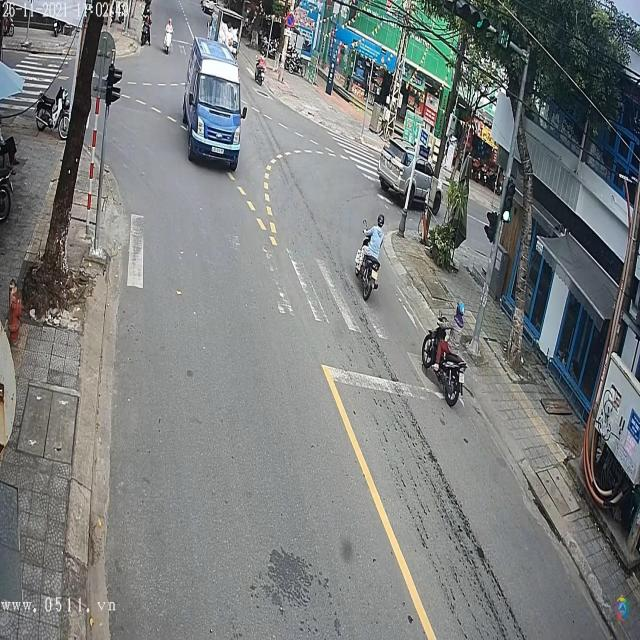car: (182, 38, 244, 168), (377, 138, 435, 205)
motorcycle: (421, 321, 470, 409), (358, 252, 381, 301)
